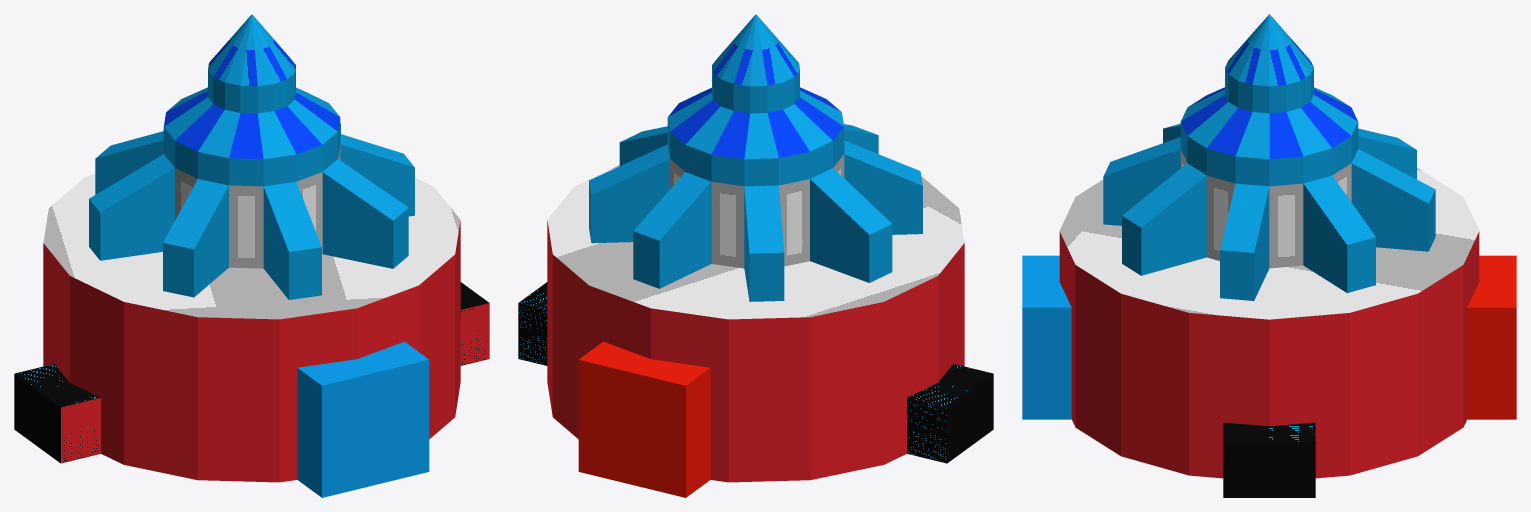
Rendered from turbine50V.obj.
3 views of the same model, side by side, from view 1: azimuth 30°, elevation 25°; view 2: azimuth 150°, elevation 25°; view 3: azimuth 270°, elevation 25° (orthographic).
Visible parts, largest first — view 1: main; view 2: main; view 3: main.
Part boxes in pixels (x1,y1,x2,y2): main: (14,14,489,497); main: (518,14,993,497); main: (1022,14,1516,497).
Size of the model in its own units: 1 by 0.8478 by 1.
1 material, 1 textured.
